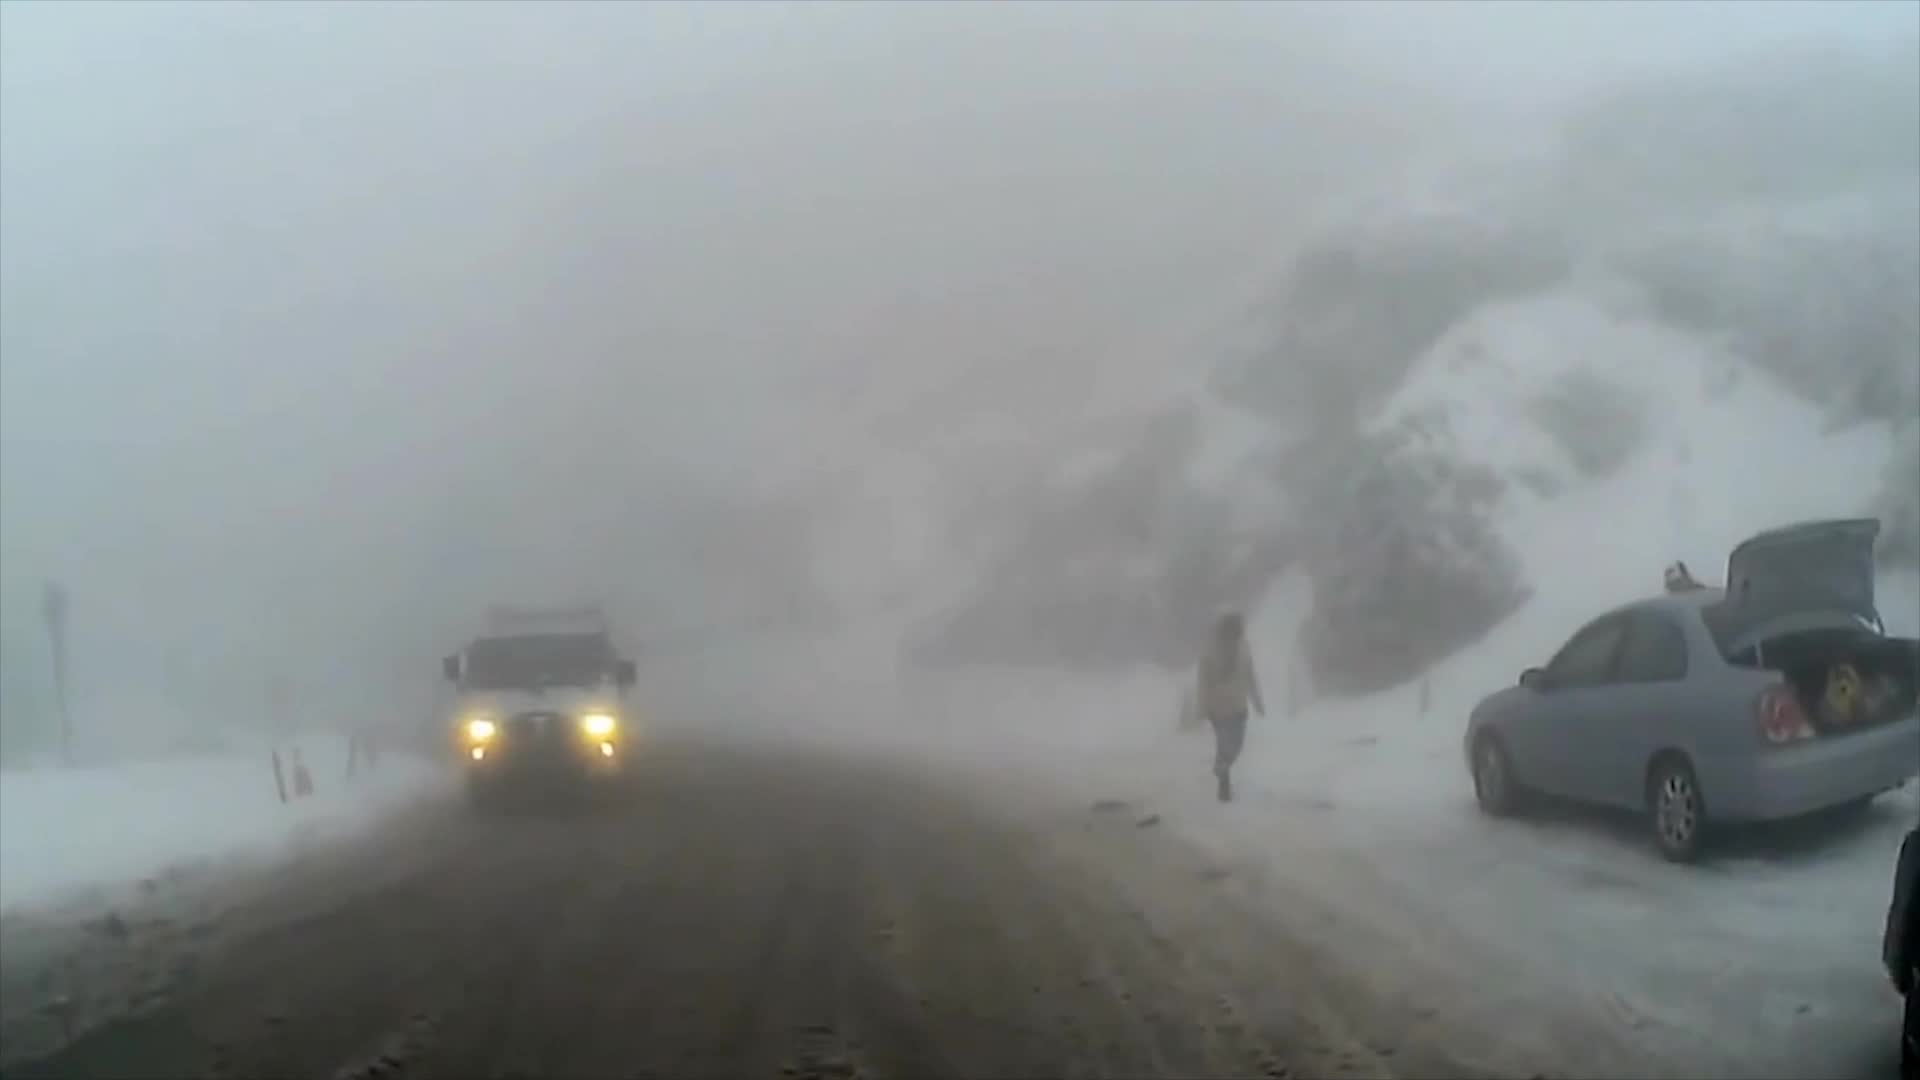pedestrian: (1188, 603, 1268, 801)
vehicle: (1460, 511, 1920, 862), (438, 603, 639, 818)
